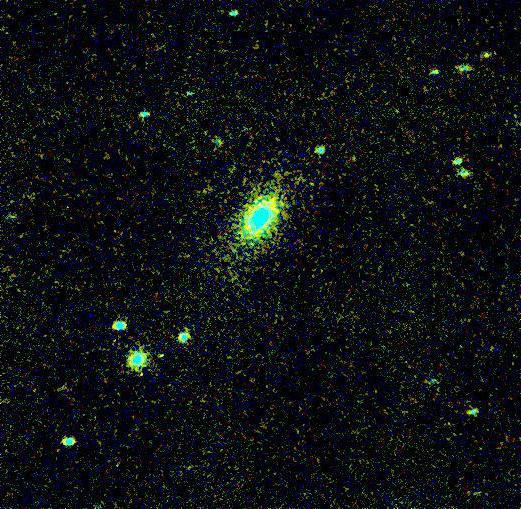star: (479, 36, 509, 66)
